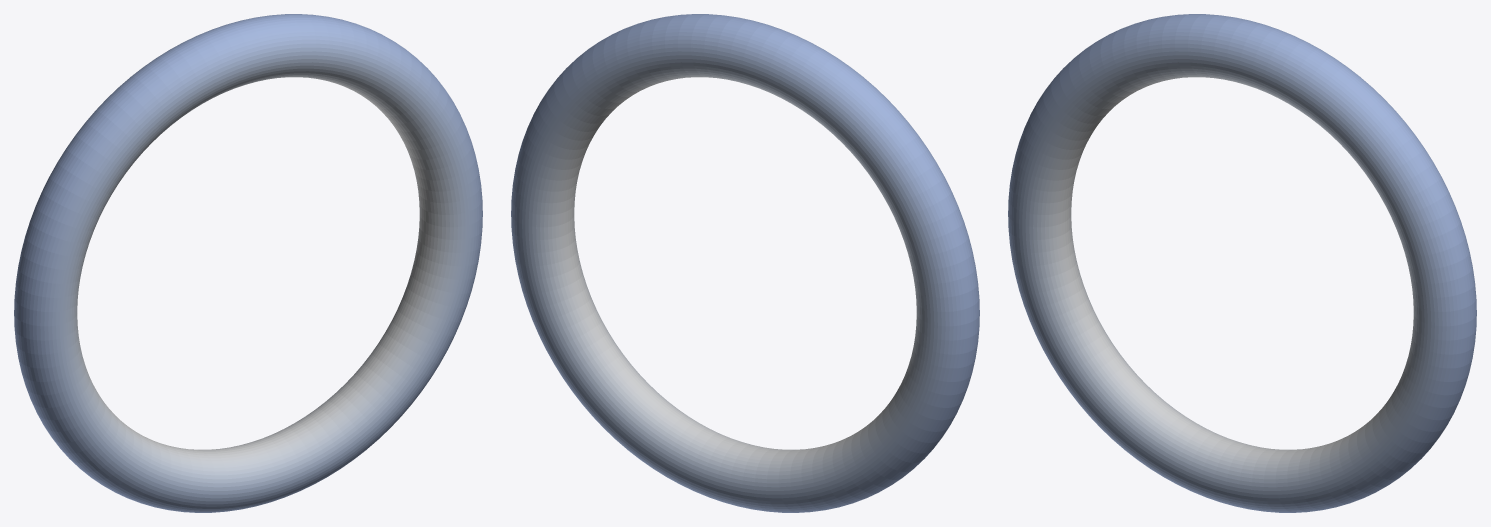
3 views of the same model, side by side, from view 1: azimuth 30°, elevation 25°; view 2: azimuth 150°, elevation 25°; view 3: azimuth 330°, elevation 25° (orthographic).
Parts seen in each view (by area): view 1: world; view 2: world; view 3: world.
Part boxes in pixels (<box>): world: <box>14,14,482,512</box>; world: <box>511,14,979,512</box>; world: <box>1008,14,1476,512</box>.
Size of the model in its own units: 30.27 by 30.27 by 3.59.
